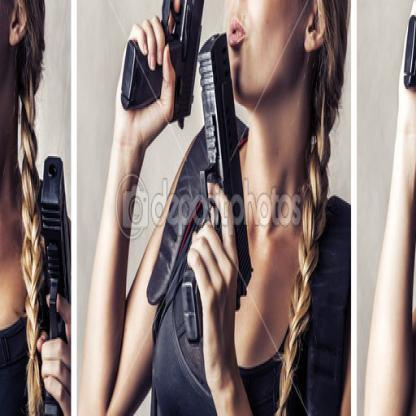gun: (168, 24, 269, 347), (106, 0, 230, 123), (31, 121, 78, 398)
